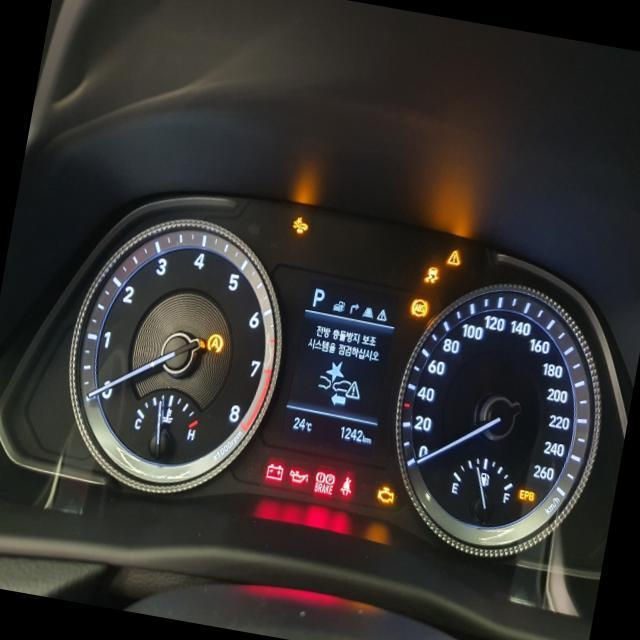Central Warning lamp: (446, 247, 460, 264)
